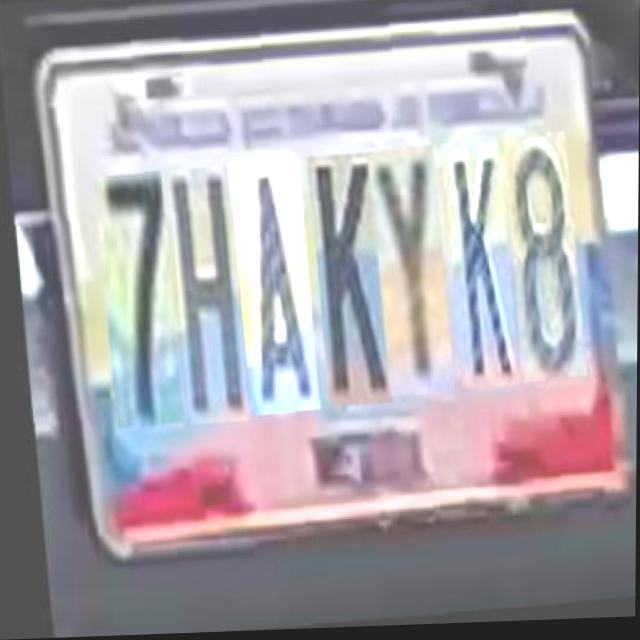7: (88, 168, 176, 425)
8: (496, 139, 579, 389)
a: (223, 158, 312, 416)
h: (162, 165, 242, 424)
k: (302, 155, 385, 410), (436, 146, 513, 394)
y: (362, 149, 448, 401)
